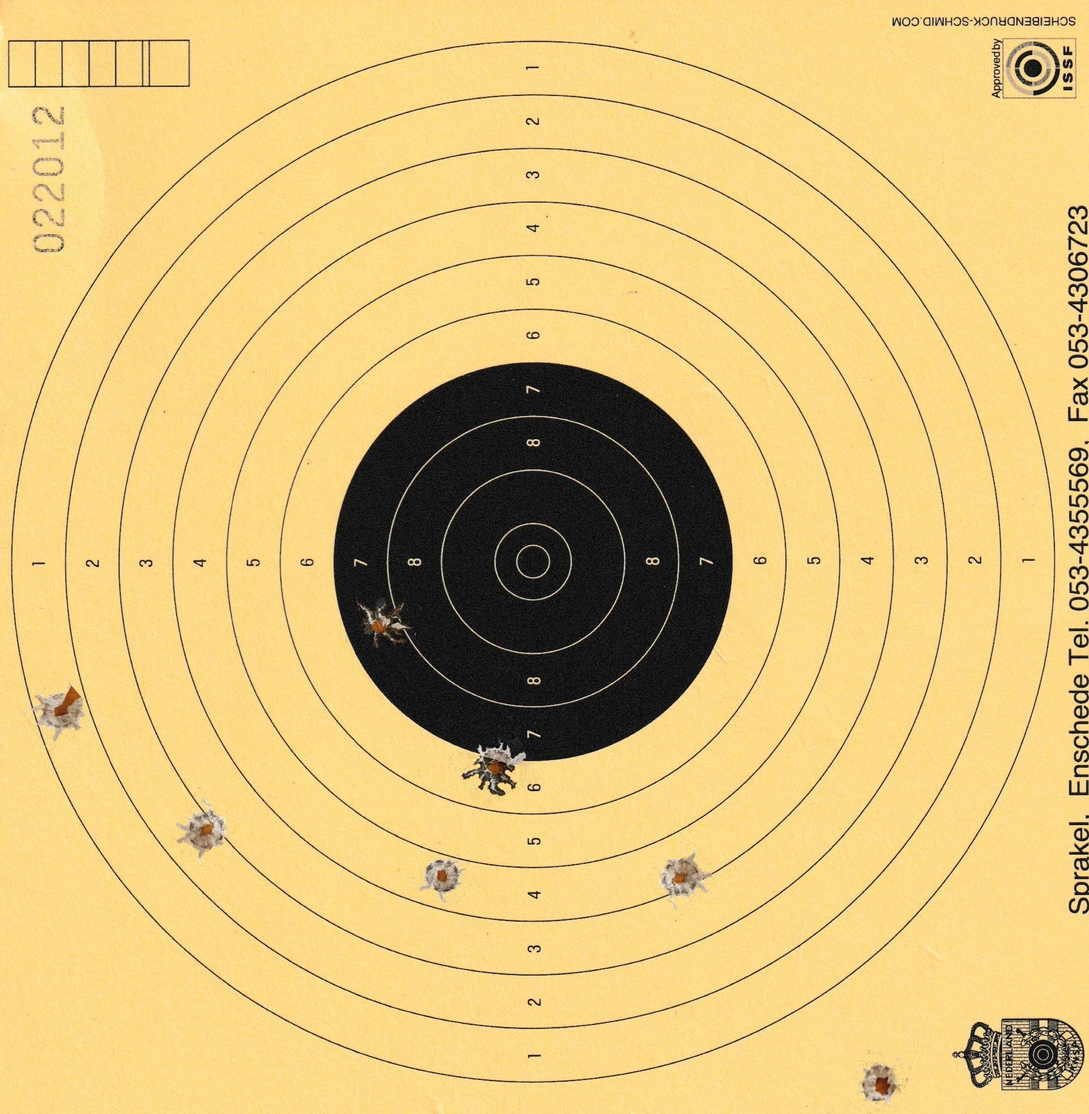hole: (176, 801, 233, 864), (462, 741, 527, 796), (30, 683, 85, 743), (356, 596, 415, 650), (659, 851, 711, 909), (418, 857, 465, 904), (856, 1062, 903, 1105)
